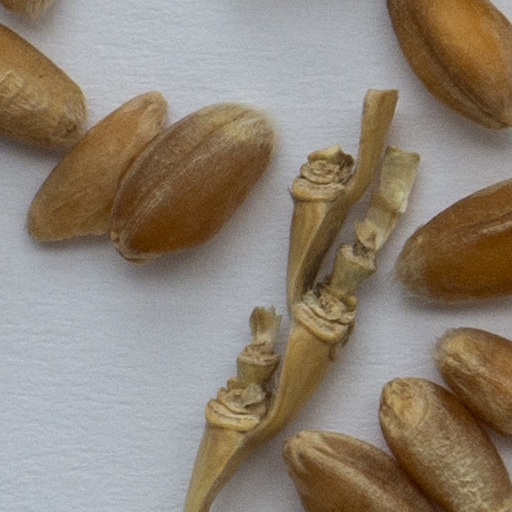Peel-poly: (185, 93, 413, 511)
